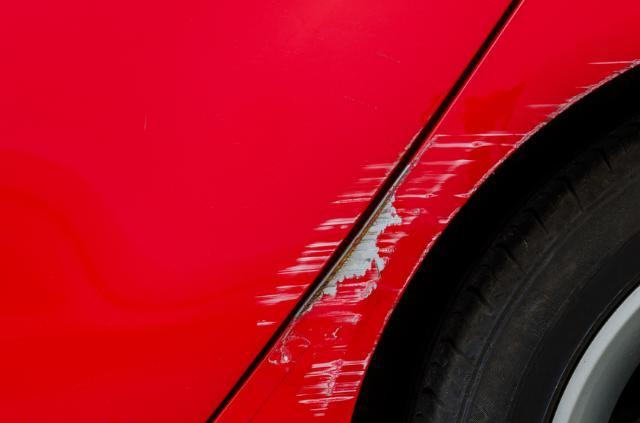Door: (211, 128, 424, 345)
Fender: (262, 43, 640, 423)
